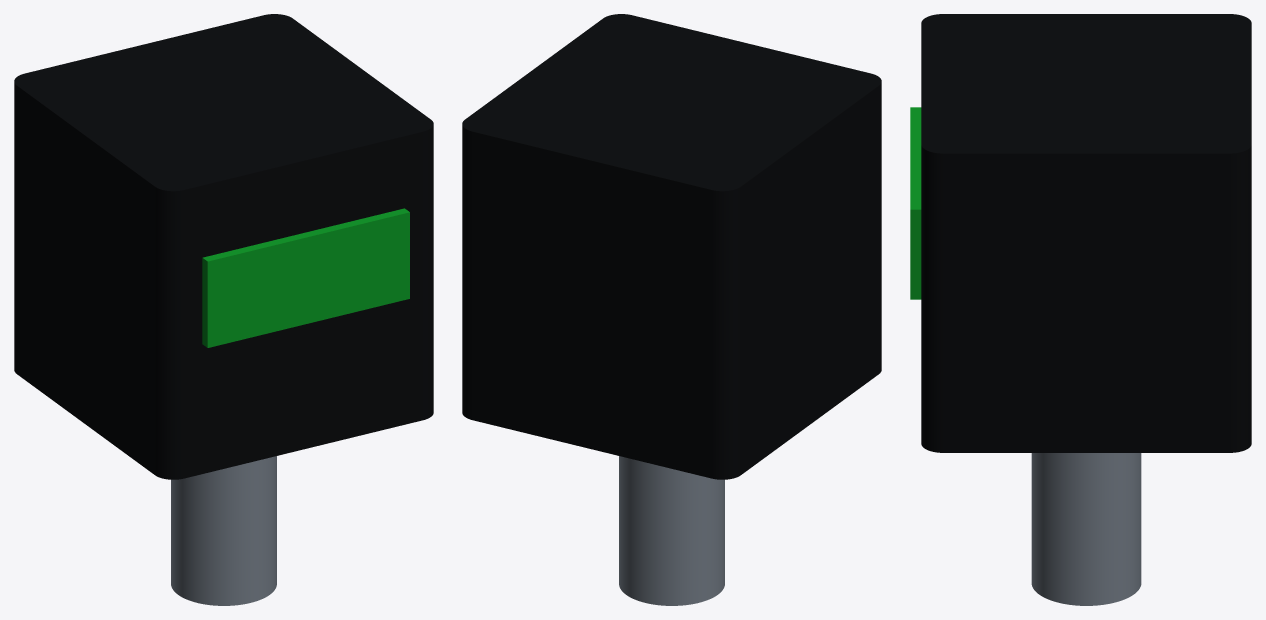
File: pressure_switch.glb
3 views of the same model, side by side, from view 1: azimuth 30°, elevation 25°; view 2: azimuth 150°, elevation 25°; view 3: azimuth 270°, elevation 25° (orthographic). The views are drawn at different scales.
Parts seen in each view (by area): view 1: pressure_switch; view 2: pressure_switch; view 3: pressure_switch.
Part boxes in pixels (x1=…): pressure_switch: x1=14, y1=14, x2=433, y2=605; pressure_switch: x1=462, y1=14, x2=881, y2=605; pressure_switch: x1=910, y1=14, x2=1251, y2=605.
Size of the model in its own units: 0.03 by 0.05 by 0.031.
